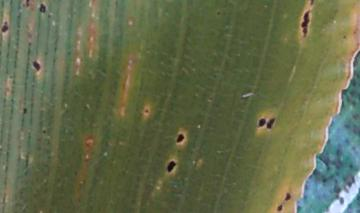tarspot: (300, 8, 313, 43), (162, 157, 180, 176), (174, 129, 188, 150), (29, 57, 46, 74), (1, 19, 12, 35), (36, 1, 48, 15), (283, 189, 294, 204), (276, 200, 286, 213), (18, 105, 30, 115), (140, 106, 152, 115), (22, 1, 32, 10), (308, 1, 317, 9)
